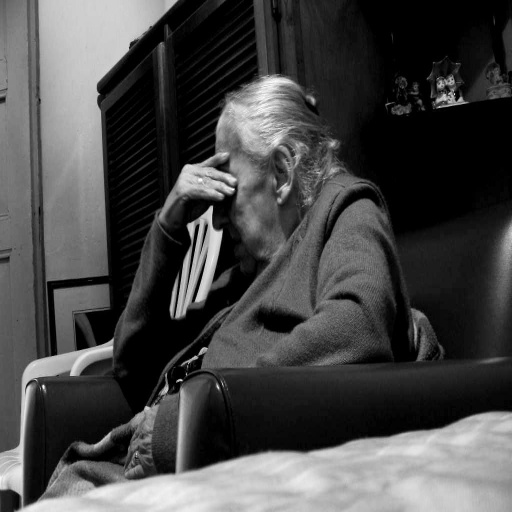hand: (152, 152, 244, 242), (120, 400, 160, 480)
